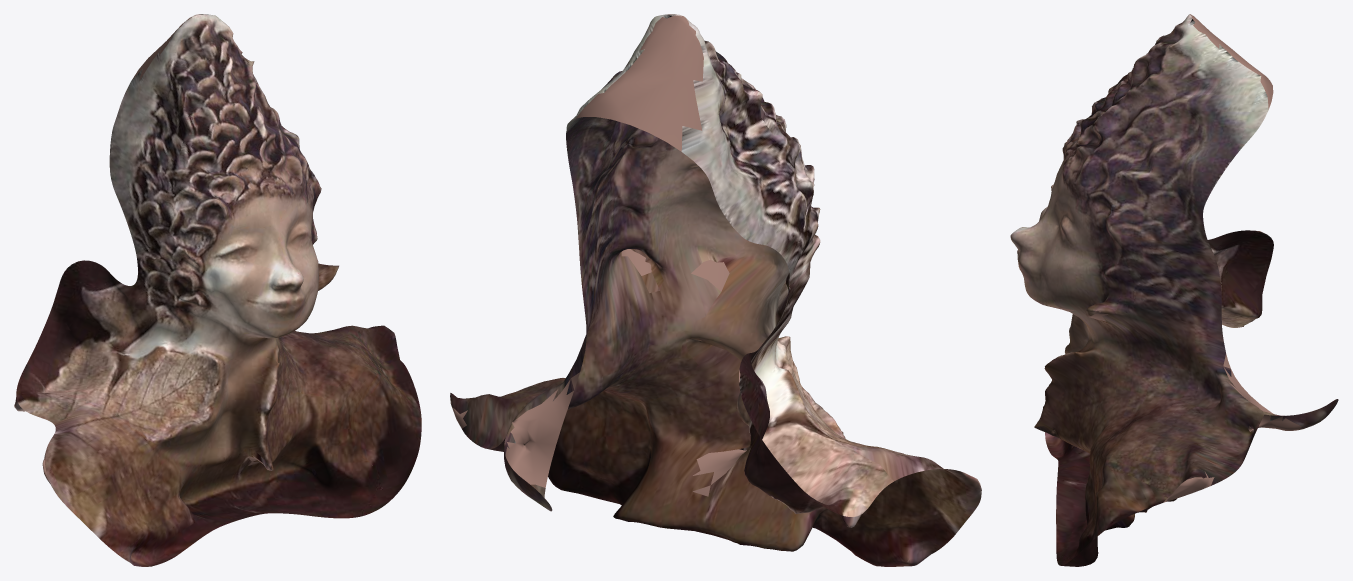
Rendered from ladyHead.obj.
3 renders of one model, left to right at view 1: azimuth 30°, elevation 25°; view 2: azimuth 150°, elevation 25°; view 3: azimuth 270°, elevation 25°, orthographic. The views are drawn at different scales.
Bounding box in the file's own units: 25.1 × 29.13 × 17.63.
Materials: 1 (1 with a texture image).
